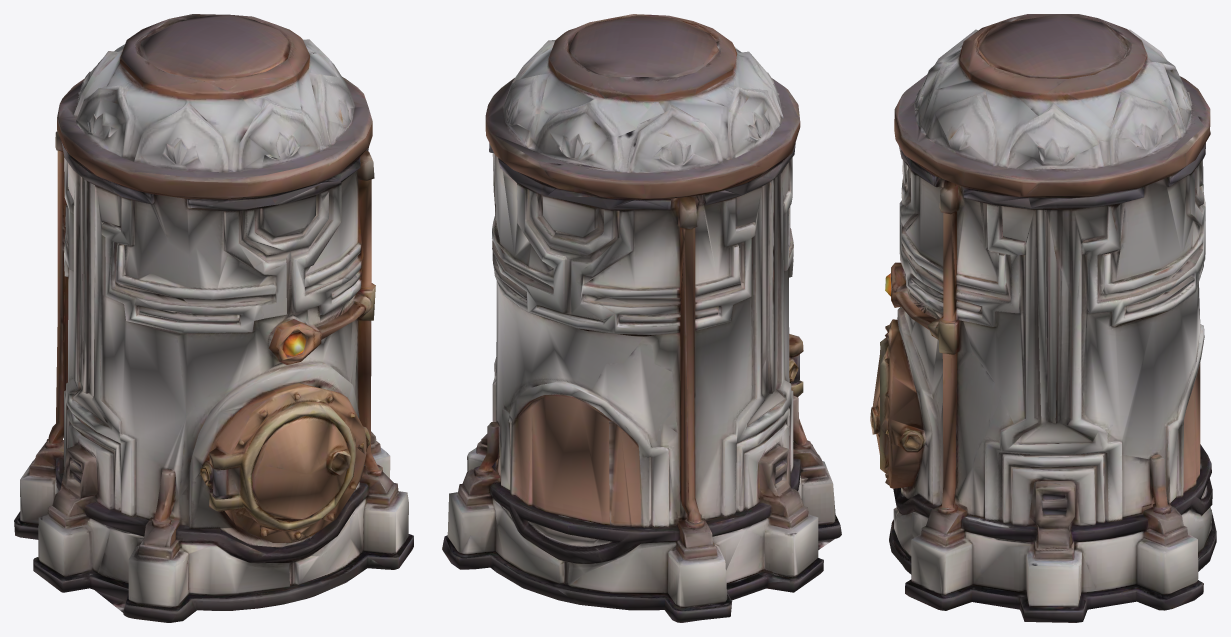
Rendered from storage_silo.glb.
3 renders of one model, left to right at view 1: azimuth 30°, elevation 25°; view 2: azimuth 150°, elevation 25°; view 3: azimuth 270°, elevation 25°, orthographic.
Parts seen in each view (by area): view 1: node_0; view 2: node_0; view 3: node_0.
Part boxes in pixels (left/top/right/bottom): node_0: left=14, top=14, right=413, bottom=622; node_0: left=442, top=14, right=841, bottom=622; node_0: left=870, top=14, right=1216, bottom=622.
Bounding box in the file's own units: 2.06 × 3 × 1.84.
Materials: 1 (1 with a texture image).
